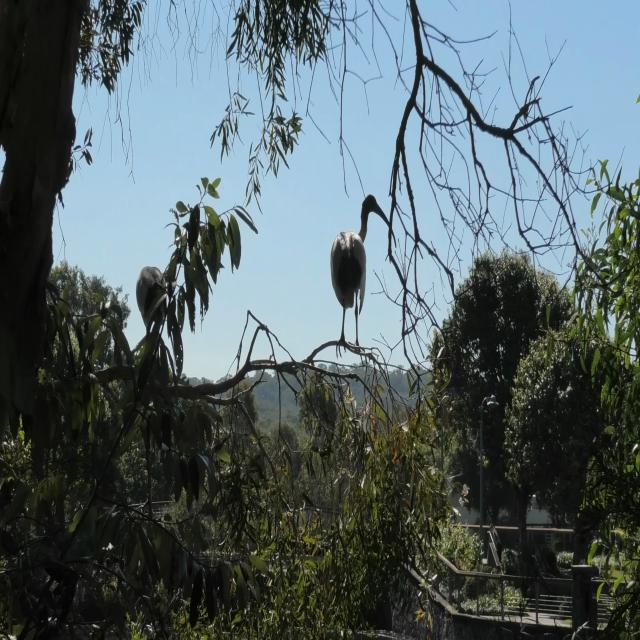Birds-Ibis: (328, 190, 398, 358), (134, 263, 170, 343)
